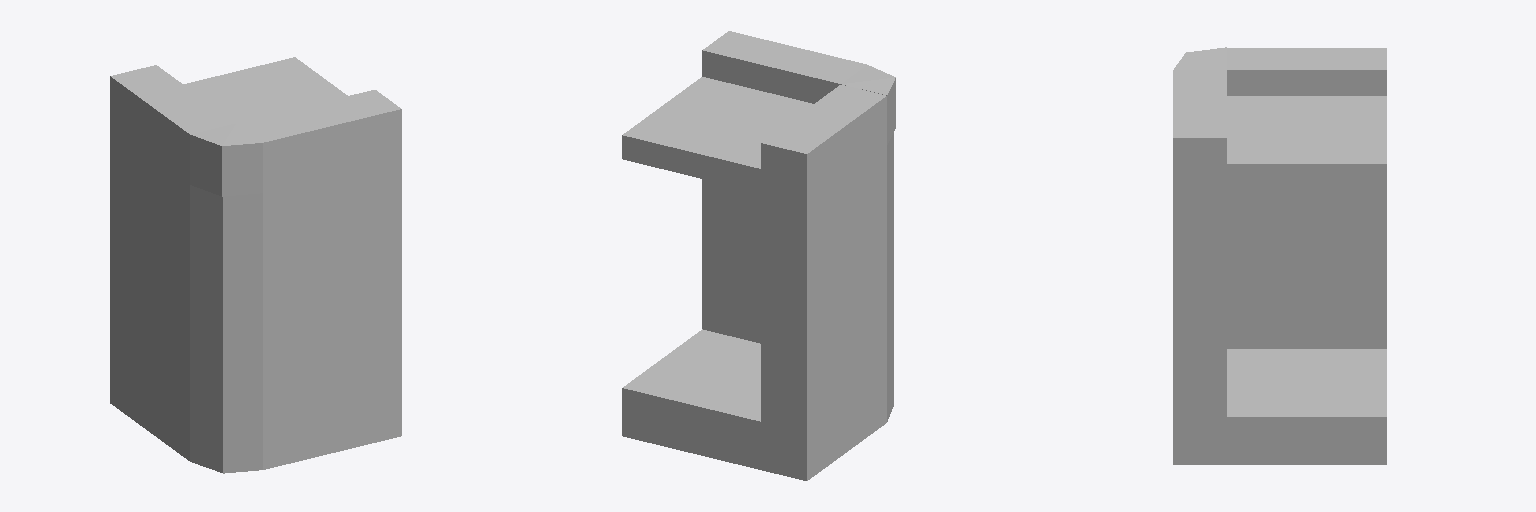
The model's file is CornerWall.obj.
3 views of the same model, side by side, from view 1: azimuth 30°, elevation 25°; view 2: azimuth 150°, elevation 25°; view 3: azimuth 270°, elevation 25° (orthographic).
Parts seen in each view (by area): view 1: Cube.001; view 2: Cube.001; view 3: Cube.001.
Part boxes in pixels (x1,y1,x2,y2): Cube.001: (110, 57, 401, 473); Cube.001: (622, 31, 895, 480); Cube.001: (1173, 47, 1386, 464).
Size of the model in its own units: 4 by 6.78 by 4.